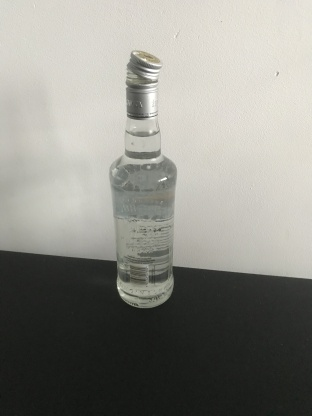nakretka: (124, 48, 162, 119)
